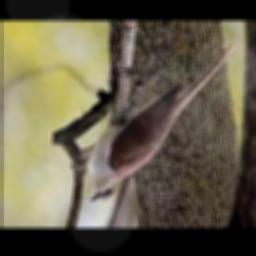Cuckoo: (90, 36, 240, 203)
